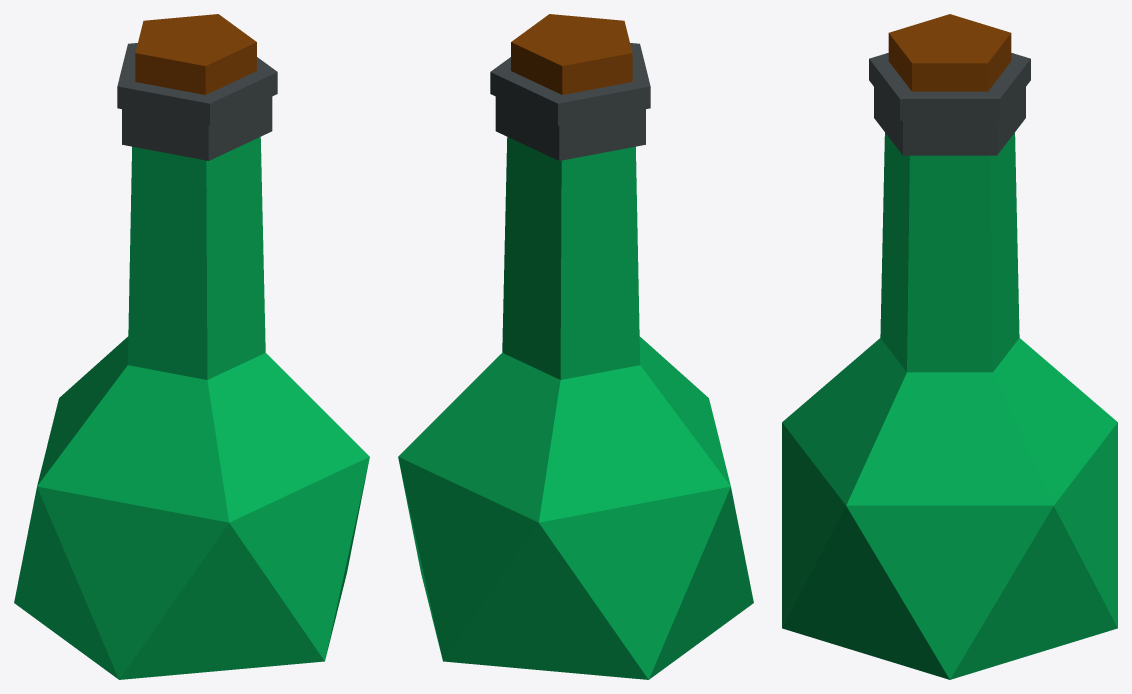
File: Potion3.fbx
3 views of the same model, side by side, from view 1: azimuth 30°, elevation 25°; view 2: azimuth 150°, elevation 25°; view 3: azimuth 270°, elevation 25° (orthographic).
Parts seen in each view (by area): view 1: Icosphere.003; view 2: Icosphere.003; view 3: Icosphere.003.
Part boxes in pixels (x1,y1,x2,y2): Icosphere.003: [14, 14, 369, 679]; Icosphere.003: [398, 14, 753, 679]; Icosphere.003: [782, 14, 1117, 679].
Bounding box in the file's own units: 0.1603 × 0.1525 × 0.3113.
